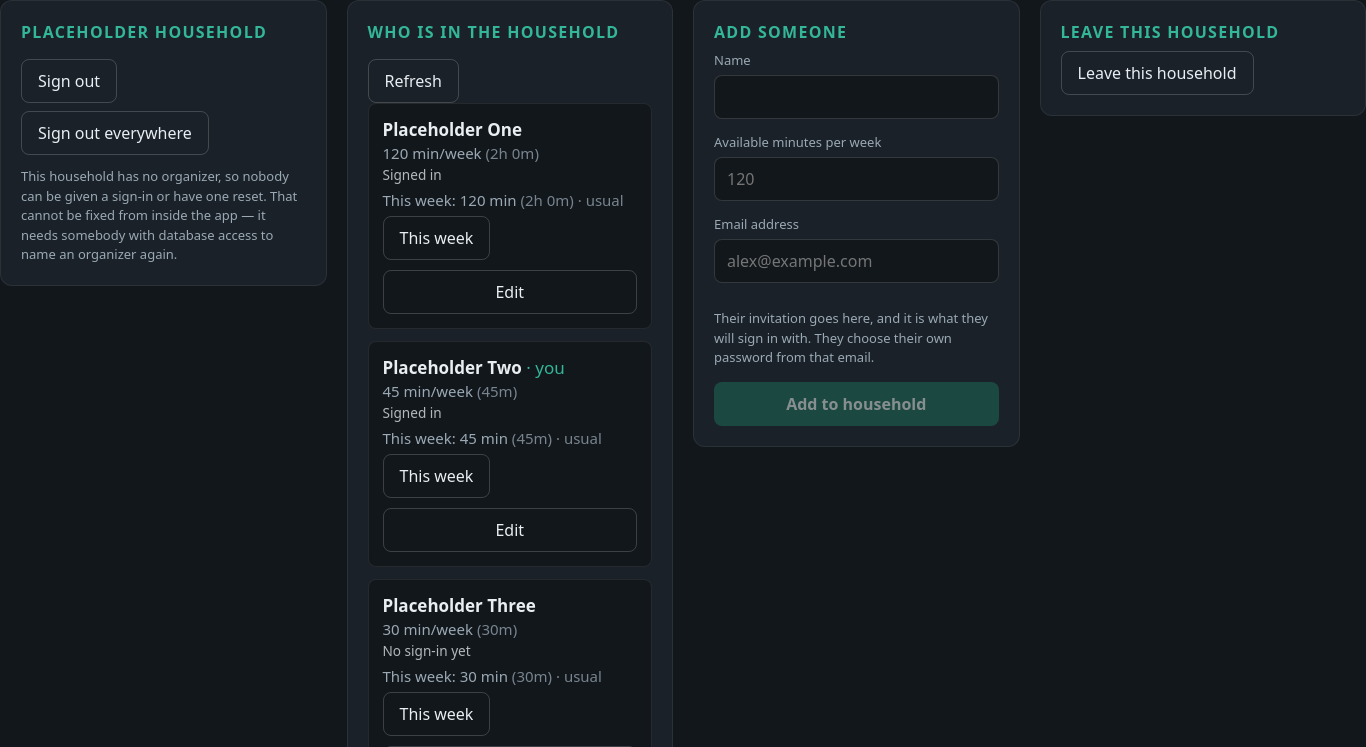
Test: leaving the household from the Who tab (#431) › says what leaving does before asking again
Click the button "Leave this household".
click(1157, 73)  # box [1060, 51, 1254, 95]
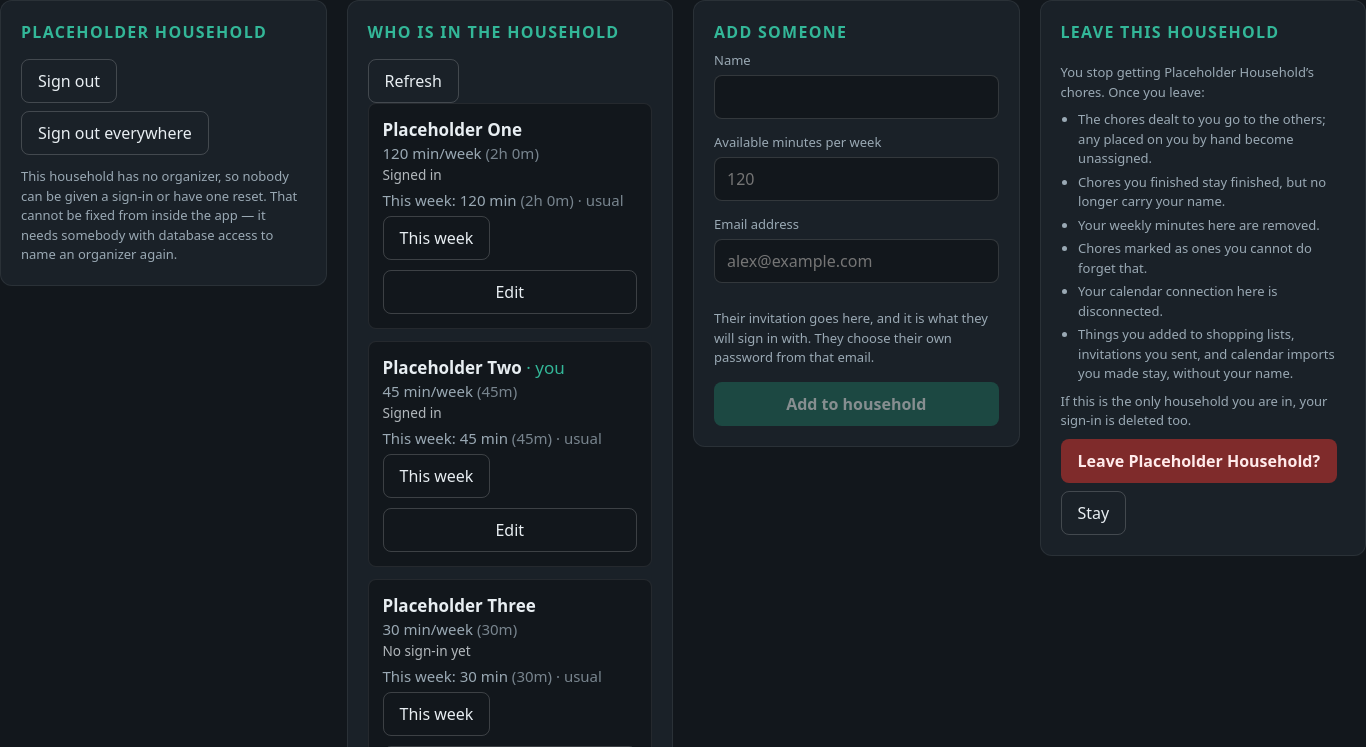
Expected: the element with test id "leave-household-warning" shows "Placeholder Household", [1164, 63, 1306, 81]
Expected: the element with test id "leave-household-warning" shows "chores dealt to you go to the others; any placed on you by hand become unassigned", [1078, 110, 1326, 167]
Expected: the element with test id "leave-household-warning" shows "shopping lists, invitations you sent, and calendar imports you made stay, without your name", [1078, 325, 1335, 382]
